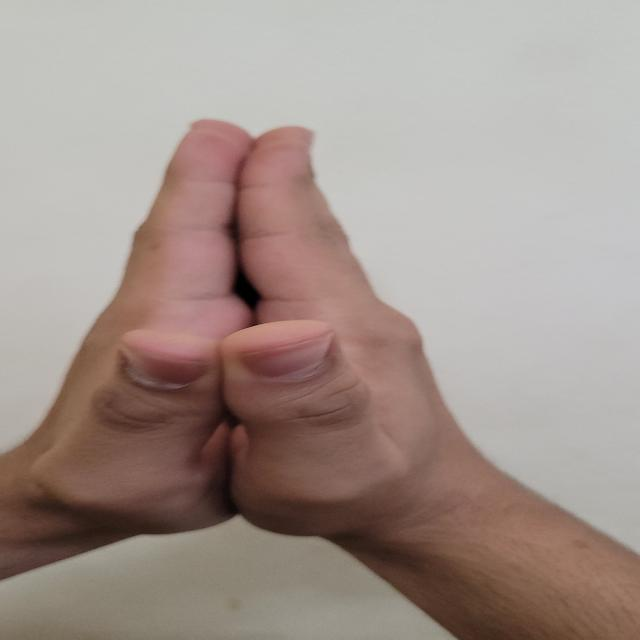Thank You: (34, 116, 575, 567)
